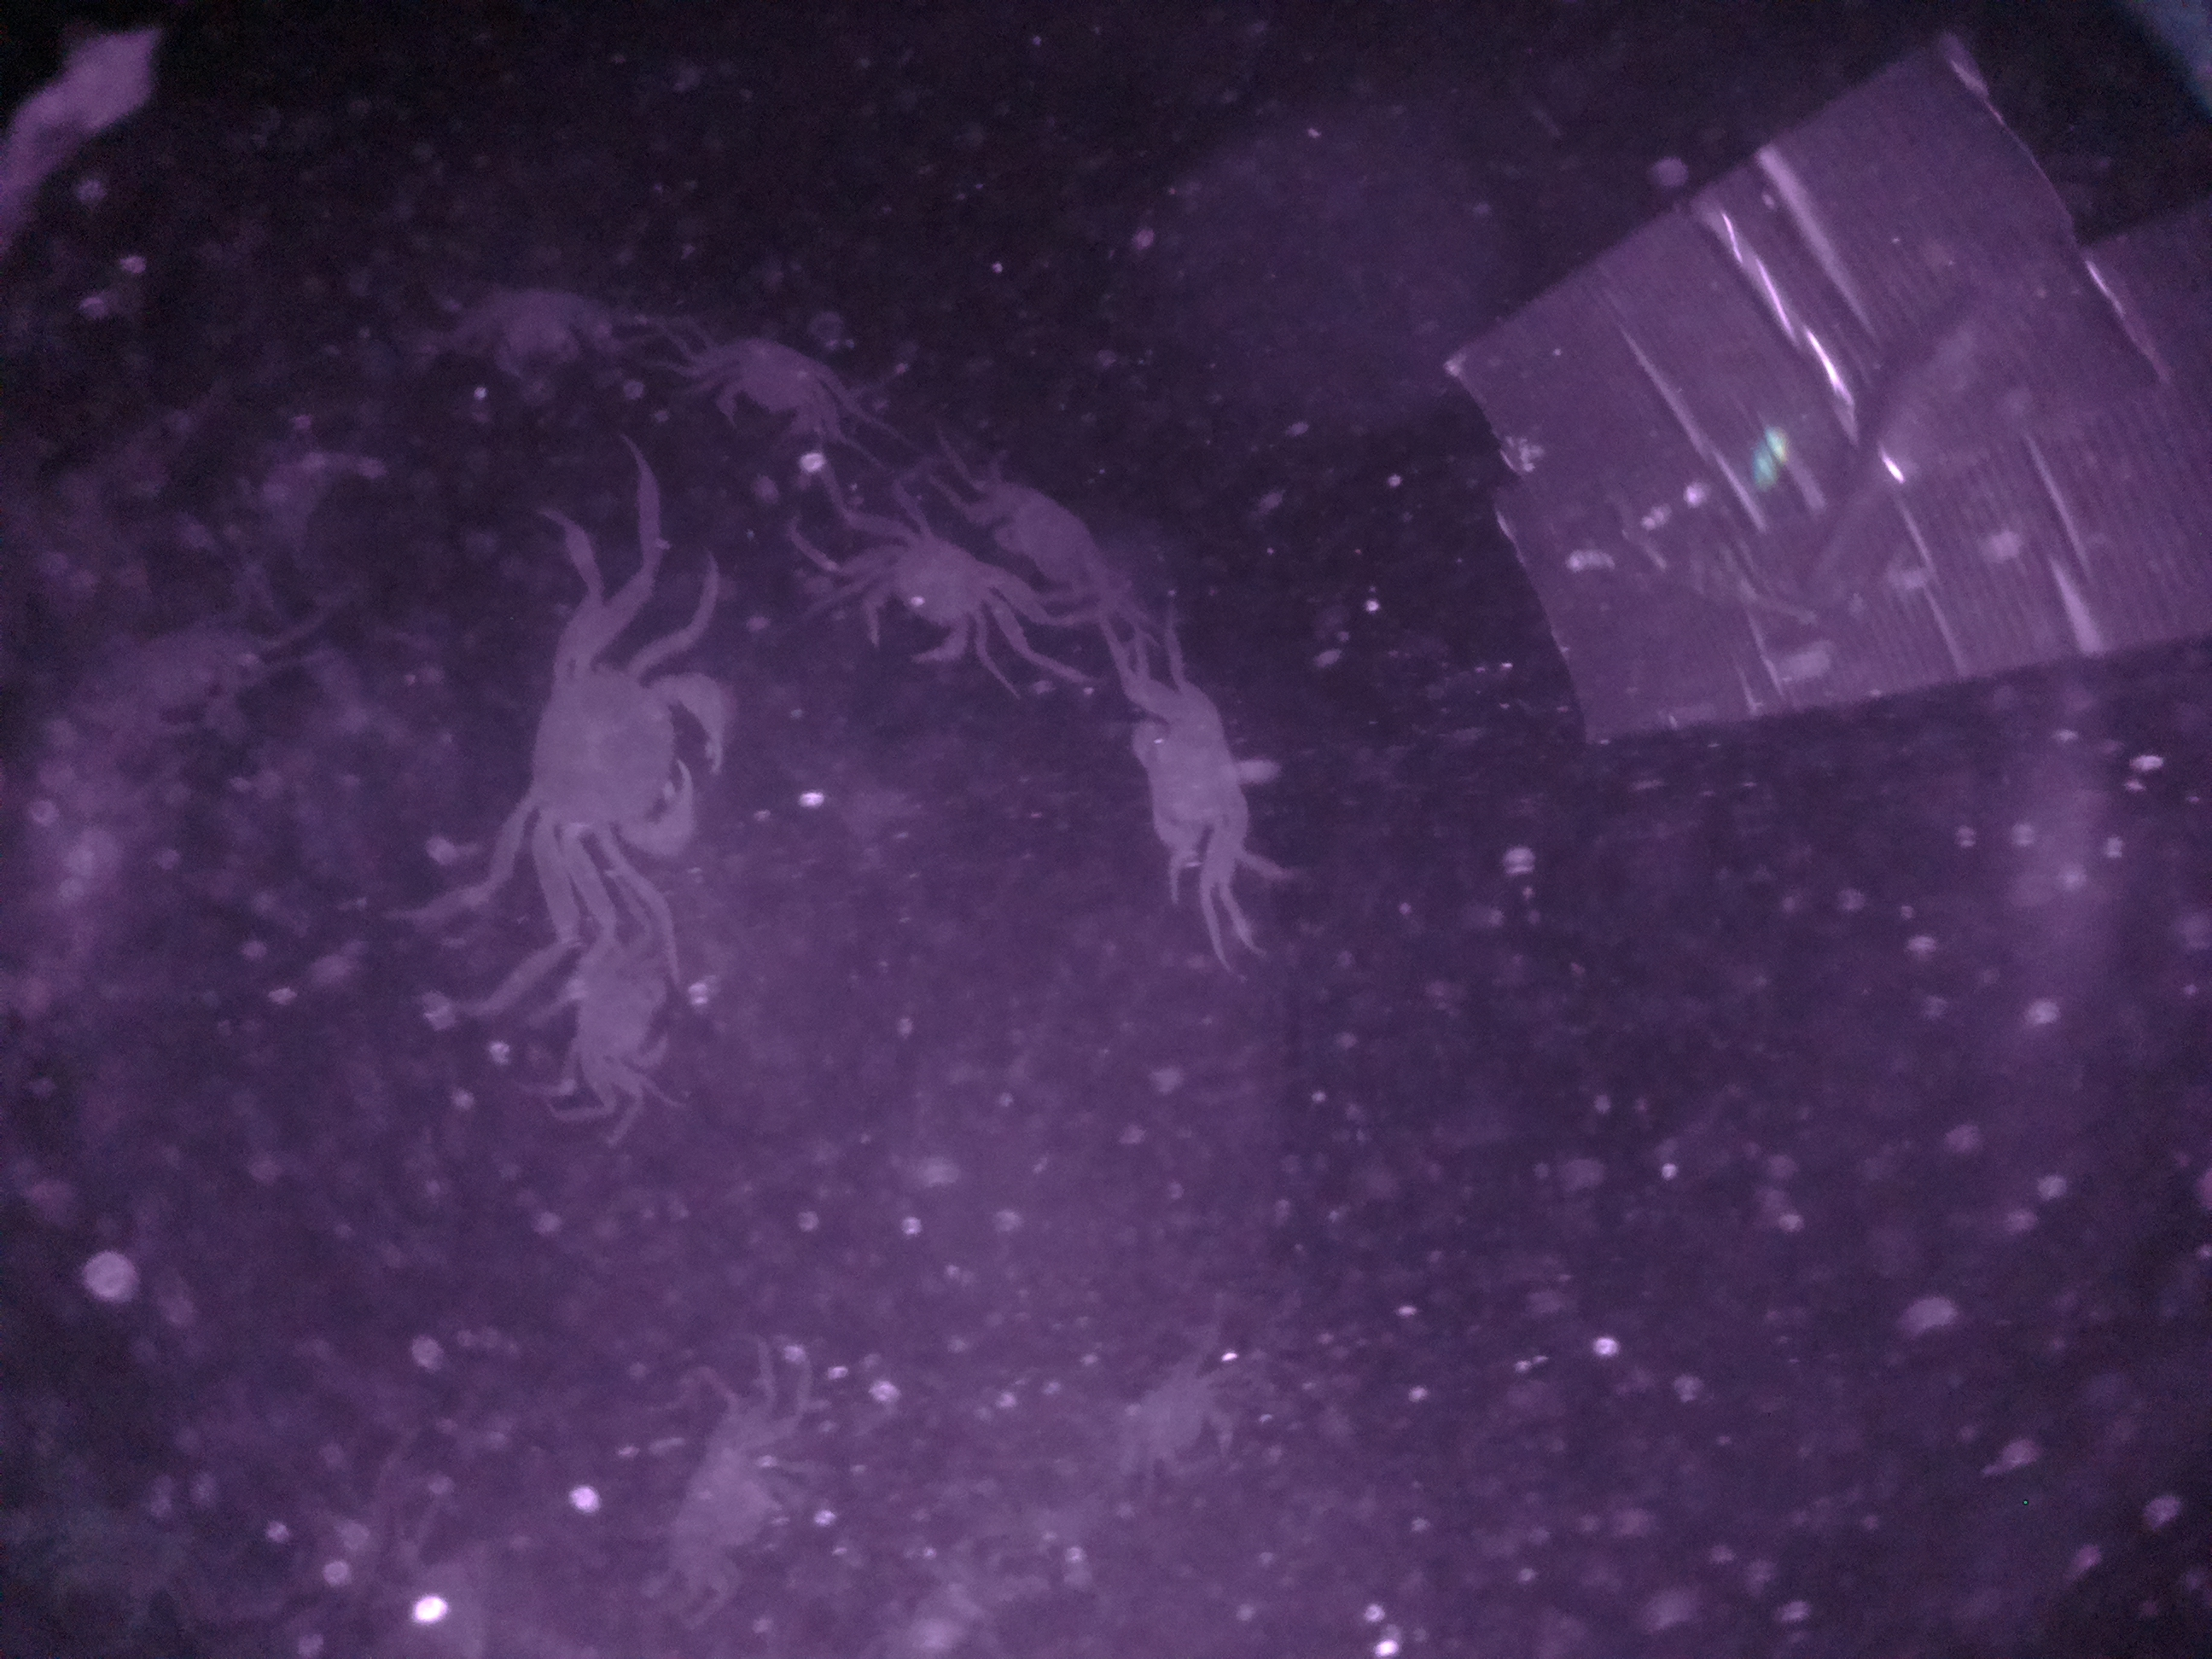Crab: (519, 631, 752, 887), (1111, 666, 1259, 880), (841, 516, 1021, 676), (697, 329, 852, 450)
